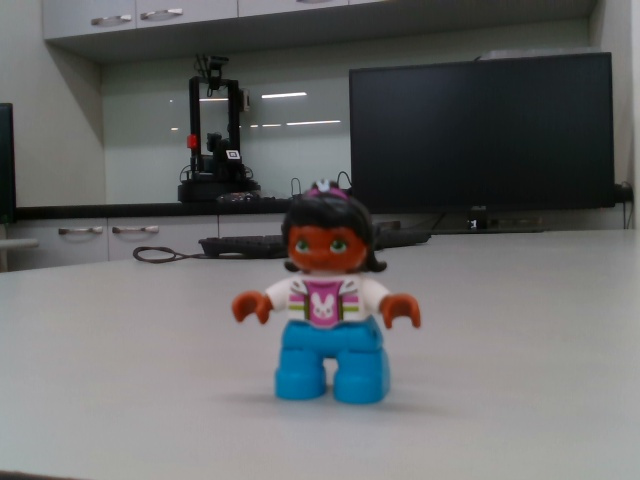people: (228, 182, 428, 408)
